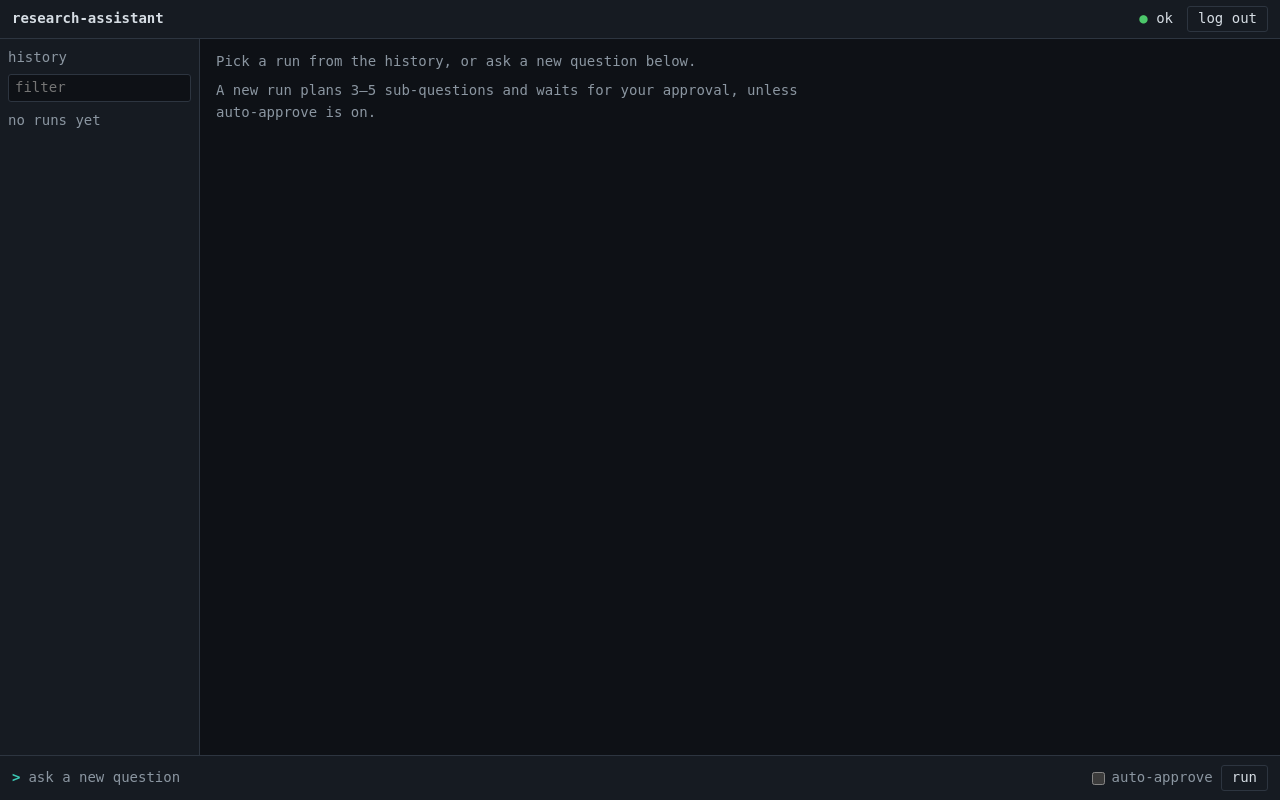
Scenario: login › logs out and returns to the login page
Click the button "log out": (1228, 19) x1=1187 y1=6 x2=1268 y2=32
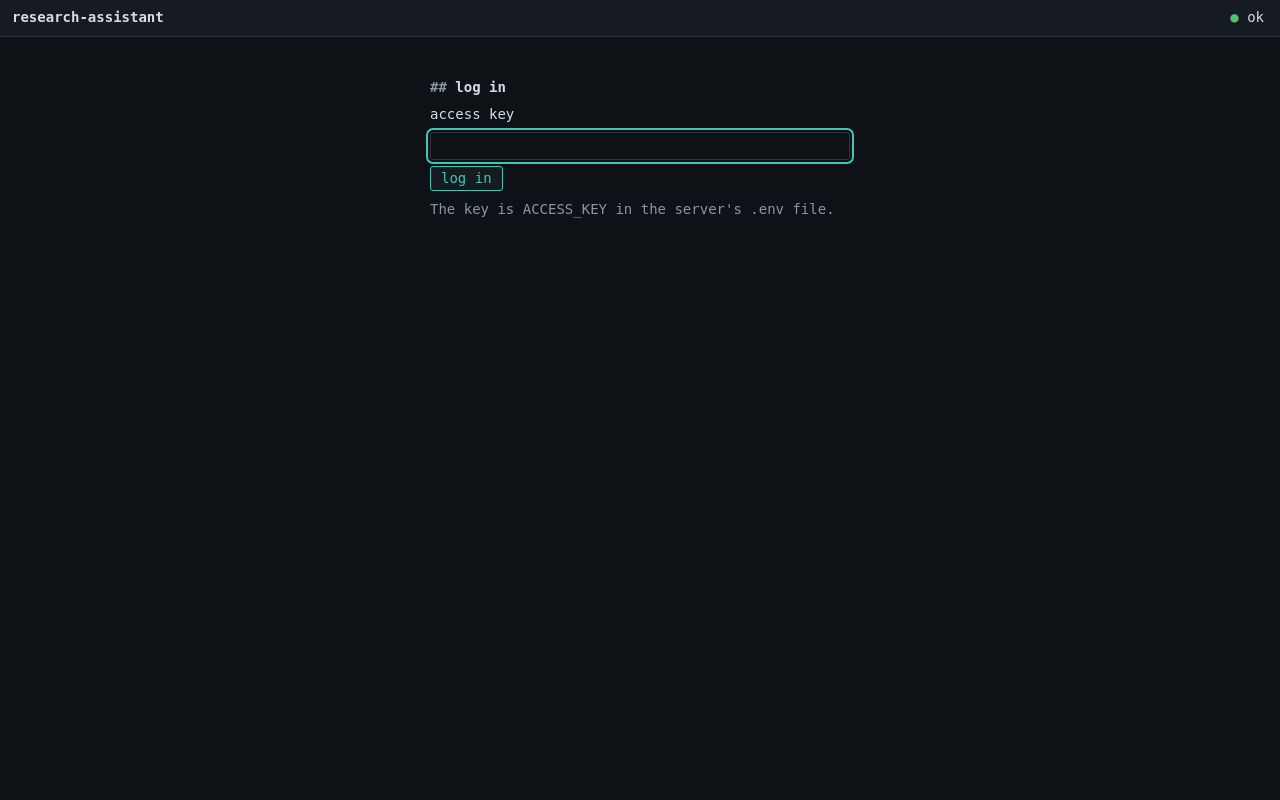
Expected: the password field labelled "access key" is shown, x1=430 y1=132 x2=850 y2=160
